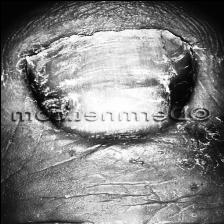Toxin: (15, 22, 198, 109), (163, 127, 224, 172)
